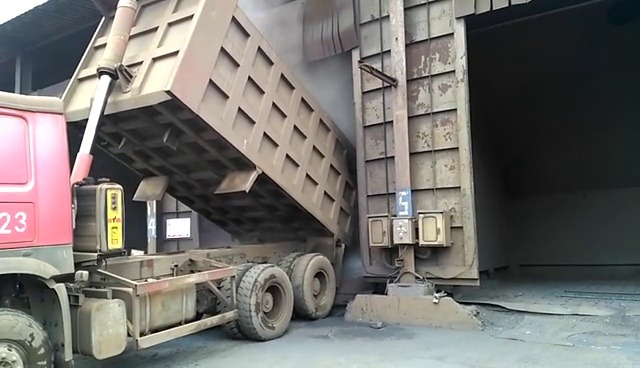dust: (235, 2, 360, 141)
truck: (0, 0, 362, 368)
